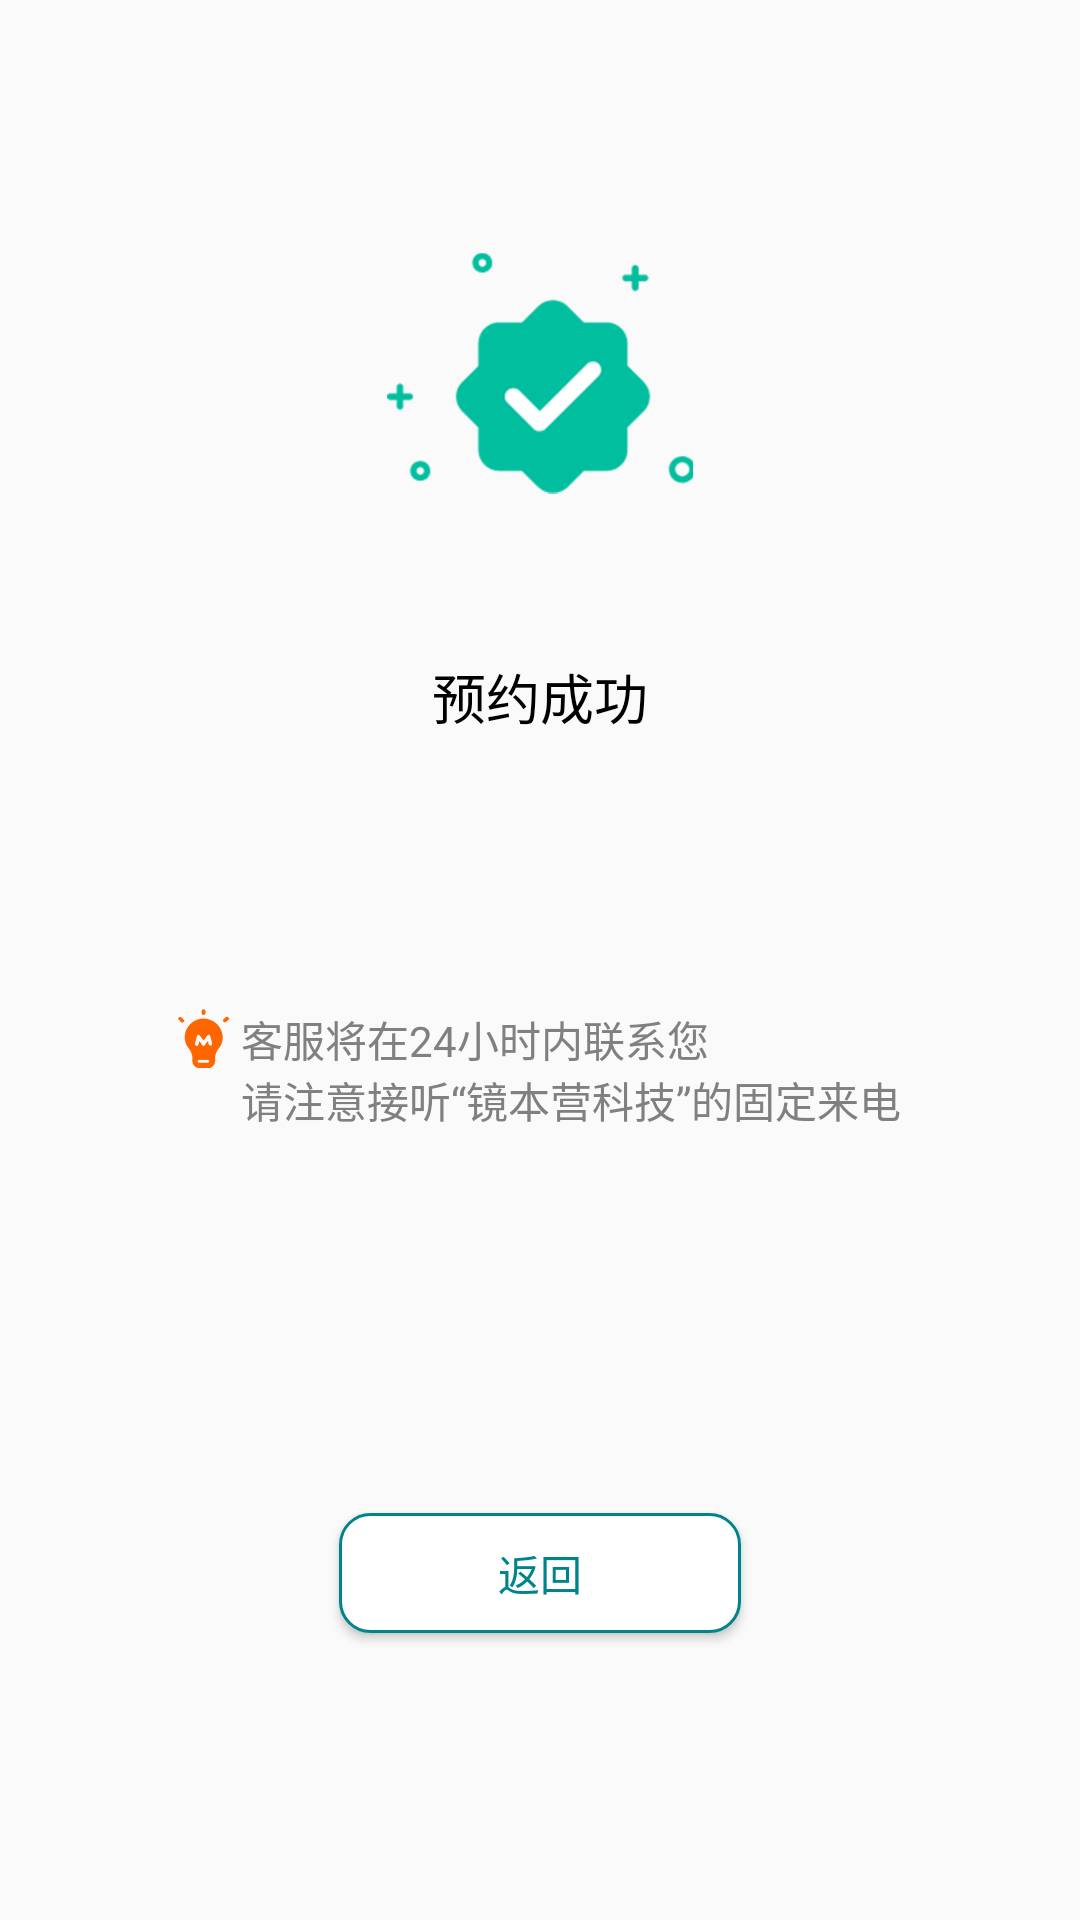

Icons on this 1080*1920 Android screen, each with its box as region(x1, y1, x2, y2):
yycg: region(387, 253, 693, 494)
